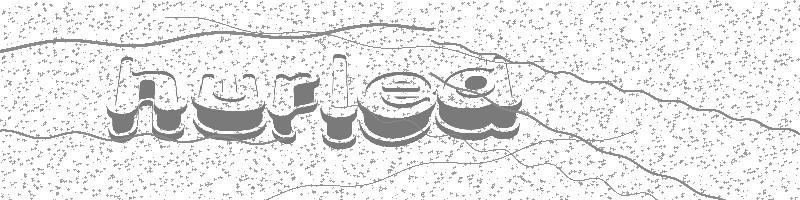d: (432, 56, 526, 141)
e: (359, 66, 437, 146)
h: (104, 51, 187, 143)
l: (316, 52, 361, 152)
r: (266, 72, 322, 143)
u: (188, 69, 267, 141)
